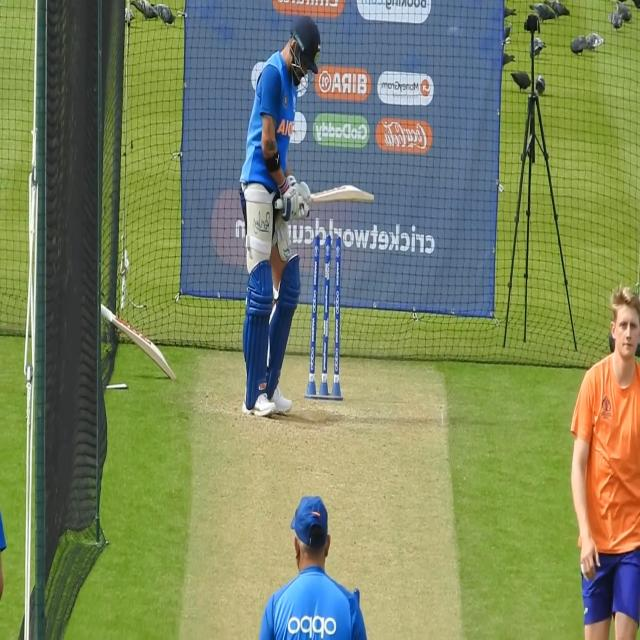stump: (308, 233, 342, 399)
